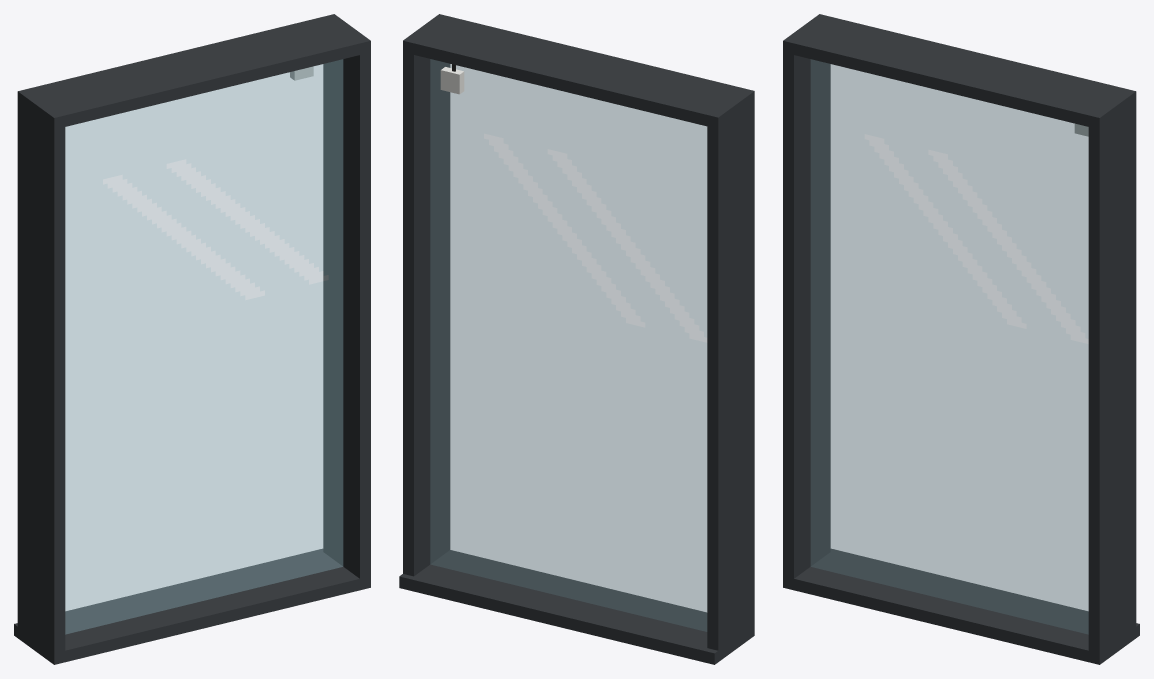
Rendered from t_window_alarm.glb.
3 renders of one model, left to right at view 1: azimuth 30°, elevation 25°; view 2: azimuth 150°, elevation 25°; view 3: azimuth 330°, elevation 25°, orthographic.
Visible parts, largest first — view 1: block_sheet, block_stile-1, block_stile1, block_lintel, block_sill; view 2: block_sheet, block_stile-1, block_stile1, block_lintel, block_sill, block_alarm-sensor; view 3: block_sheet, block_stile1, block_stile-1, block_lintel, block_sill.
Part boxes in pixels (x1=…): block_sheet: x1=65, y1=59, x2=343, y2=634; block_stile-1: x1=17, y1=89, x2=65, y2=664; block_stile1: x1=323, y1=14, x2=370, y2=590; block_lintel: x1=17, y1=14, x2=370, y2=129; block_sill: x1=14, y1=548, x2=370, y2=664; block_sheet: x1=430, y1=59, x2=707, y2=631; block_stile-1: x1=707, y1=88, x2=754, y2=661; block_stile1: x1=403, y1=14, x2=450, y2=576; block_lintel: x1=403, y1=14, x2=754, y2=128; block_sill: x1=399, y1=550, x2=754, y2=664; block_alarm-sensor: x1=440, y1=67, x2=464, y2=94; block_sheet: x1=810, y1=59, x2=1088, y2=634; block_stile1: x1=1088, y1=90, x2=1136, y2=664; block_stile-1: x1=783, y1=14, x2=830, y2=590; block_lintel: x1=783, y1=14, x2=1136, y2=129; block_sill: x1=783, y1=548, x2=1139, y2=664.
Size of the model in its own units: 1 by 1.65 by 0.22.
3 materials, 3 textured.
